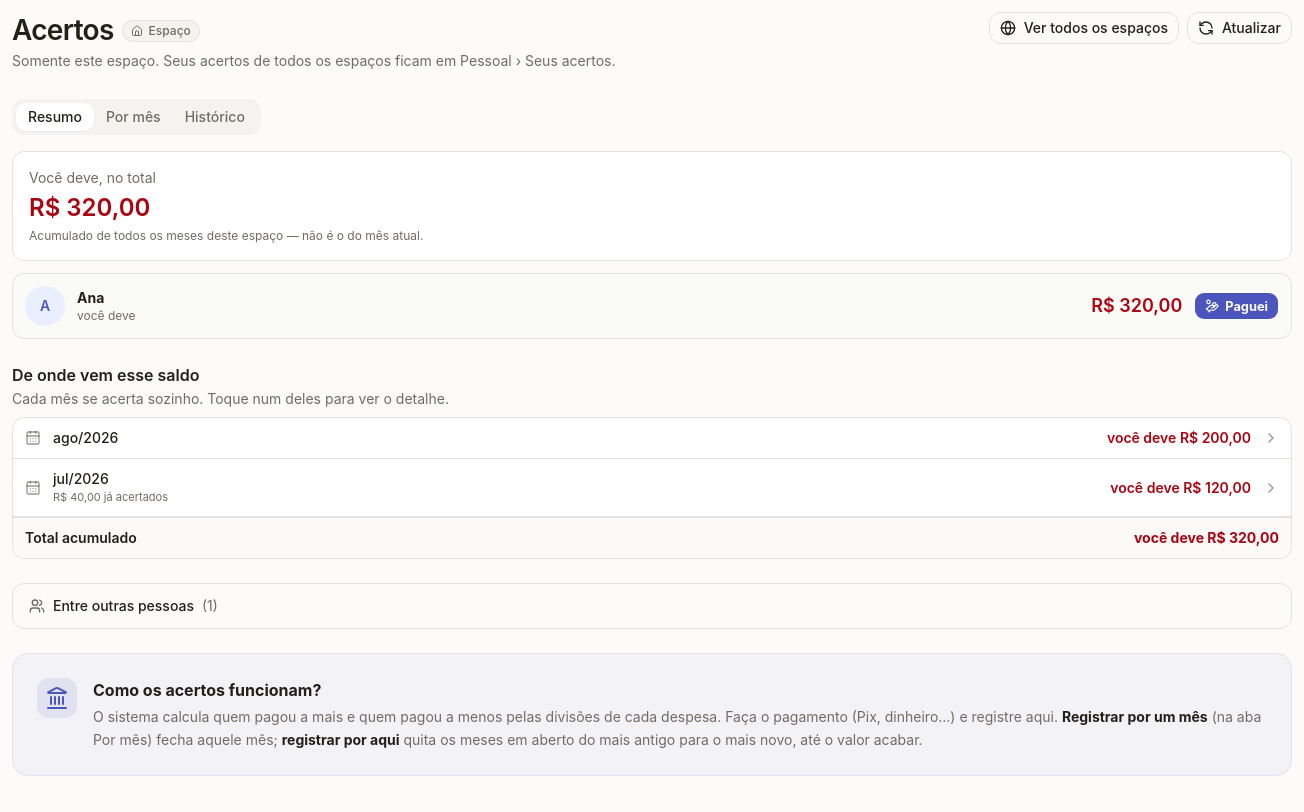
Test case: Acertos do espaço › clicar num mês da origem abre a aba Por mês naquele mês
Click the text "jul/2026" at [81, 479], box top-left (53, 470), bottom-right (109, 487)
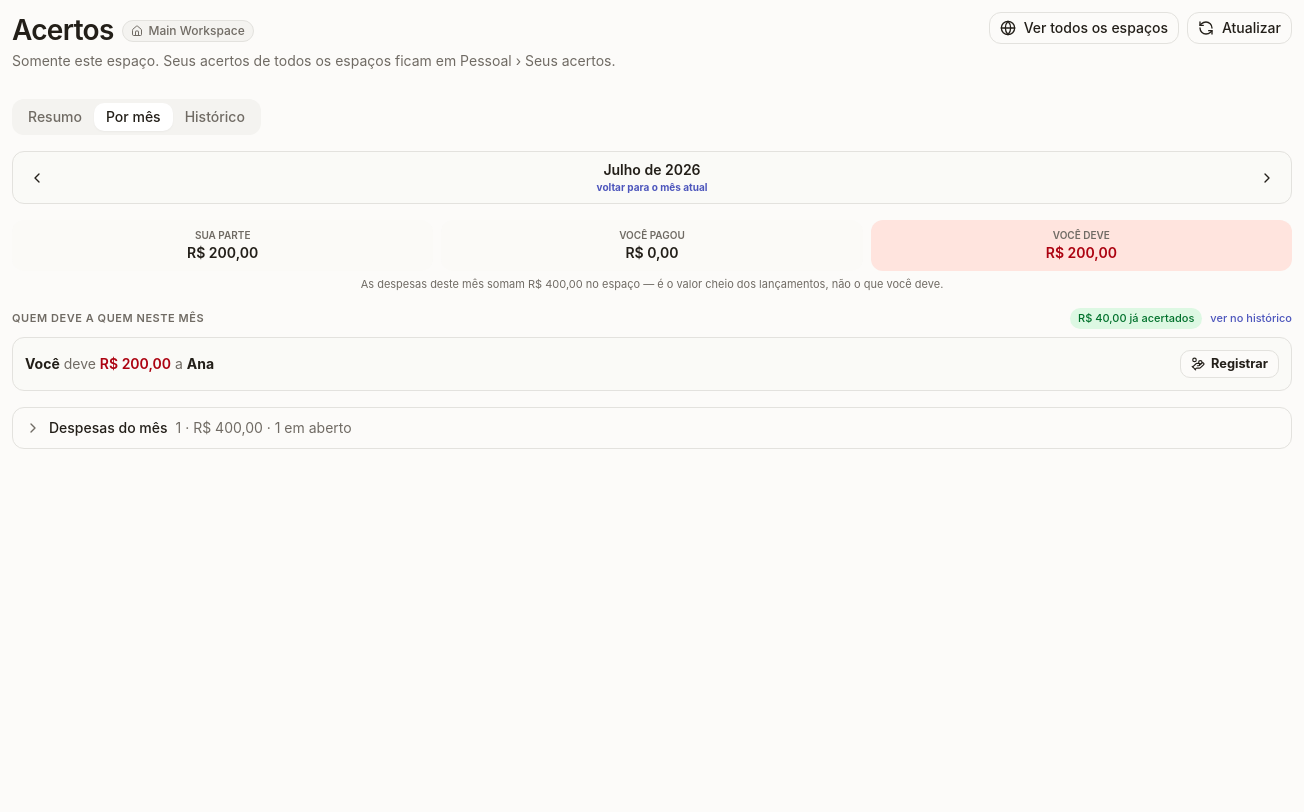
Check: the text "Julho de 2026" is shown, box top-left (603, 160), bottom-right (701, 180)
